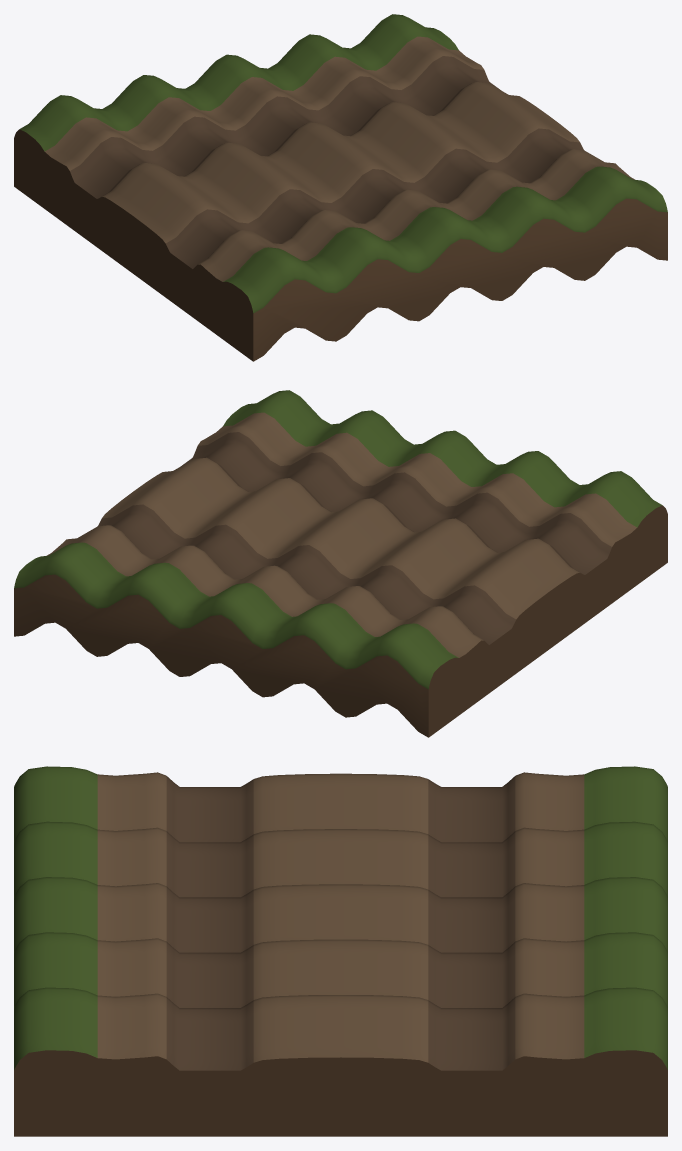
3 renders of one model, top to bottom at view 1: azimuth 30°, elevation 25°; view 2: azimuth 150°, elevation 25°; view 3: azimuth 270°, elevation 25°, orthographic. The views are drawn at different scales.
Parts seen in each view (by area): view 1: w2o; view 2: w2o; view 3: w2o.
Part boxes in pixels (x1,y1,x2,y2): w2o: [14, 14, 667, 361]; w2o: [14, 390, 667, 737]; w2o: [14, 766, 667, 1136].
Size of the model in its own units: 9 by 1.81 by 9.
